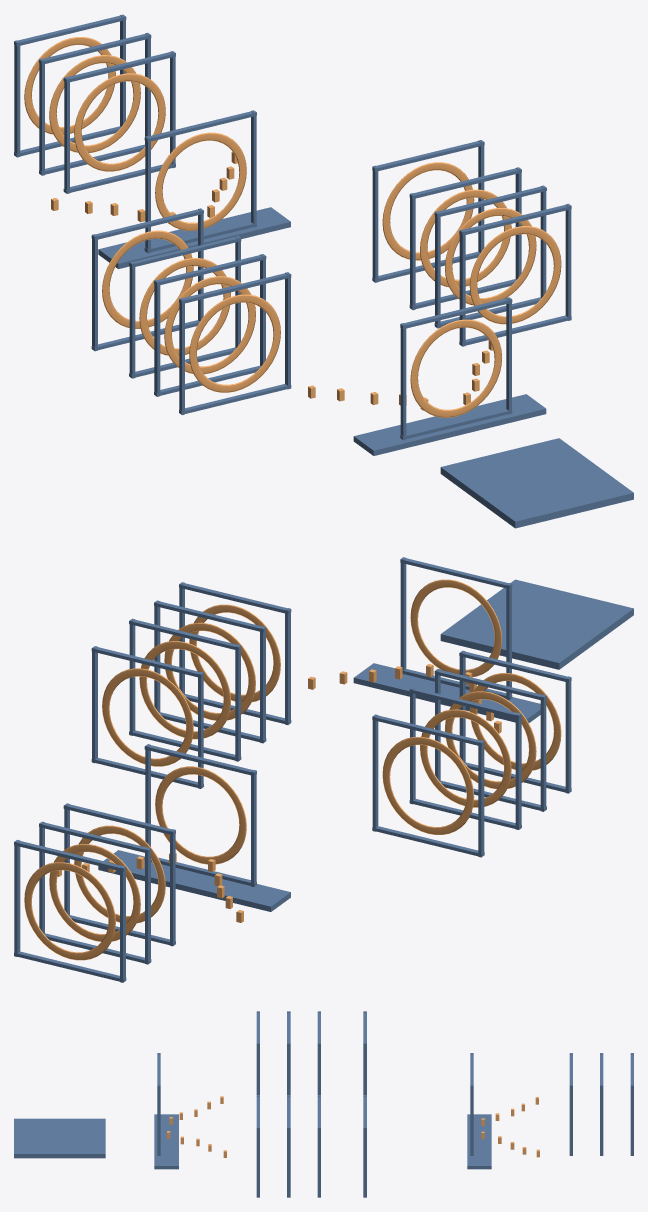
Rendered from lattice.glb.
The picture shows the model from 3 angles, top to bottom: view 1: azimuth 30°, elevation 25°; view 2: azimuth 150°, elevation 25°; view 3: azimuth 270°, elevation 25°; orthographic projection. The views are drawn at different scales.
Visible parts, largest first — view 1: box-0, box-6, box-62, ring-1, ring-17, ring-37, ring-57, ring-73, ring-78, ring-22, ring-42, ring-52 (+16 smaller); view 2: box-0, box-62, box-6, ring-83, ring-32, ring-52, ring-57, ring-1, ring-27, ring-47, ring-78, ring-22 (+40 smaller); view 3: box-0, box-62, box-6.
Part boxes in pixels (x1,y1,x2,y2): box-0: (440, 438, 633, 528); box-6: (353, 394, 546, 455); box-62: (98, 207, 290, 268); ring-1: (410, 319, 501, 417); ring-17: (189, 294, 280, 392); ring-37: (469, 226, 561, 324); ring-57: (155, 132, 246, 230); ring-73: (74, 73, 165, 171); ring-78: (49, 55, 140, 153); ring-22: (164, 276, 255, 374); ring-42: (445, 208, 536, 305); ring-52: (382, 162, 474, 260); box-0: (440, 579, 633, 669); box-62: (98, 850, 290, 911); box-6: (353, 663, 540, 722); ring-83: (24, 862, 115, 960); ring-32: (382, 737, 474, 834); ring-52: (102, 668, 193, 766); ring-57: (155, 766, 246, 864); ring-1: (410, 579, 501, 677); ring-27: (420, 709, 511, 807); ring-47: (139, 641, 230, 739); ring-78: (49, 844, 140, 941); ring-22: (445, 691, 536, 789); box-0: (14, 1118, 105, 1158); box-62: (467, 1114, 491, 1169); box-6: (154, 1114, 178, 1169).
Bounding box in the file's own units: 36.15 × 10.71 × 81.22.
